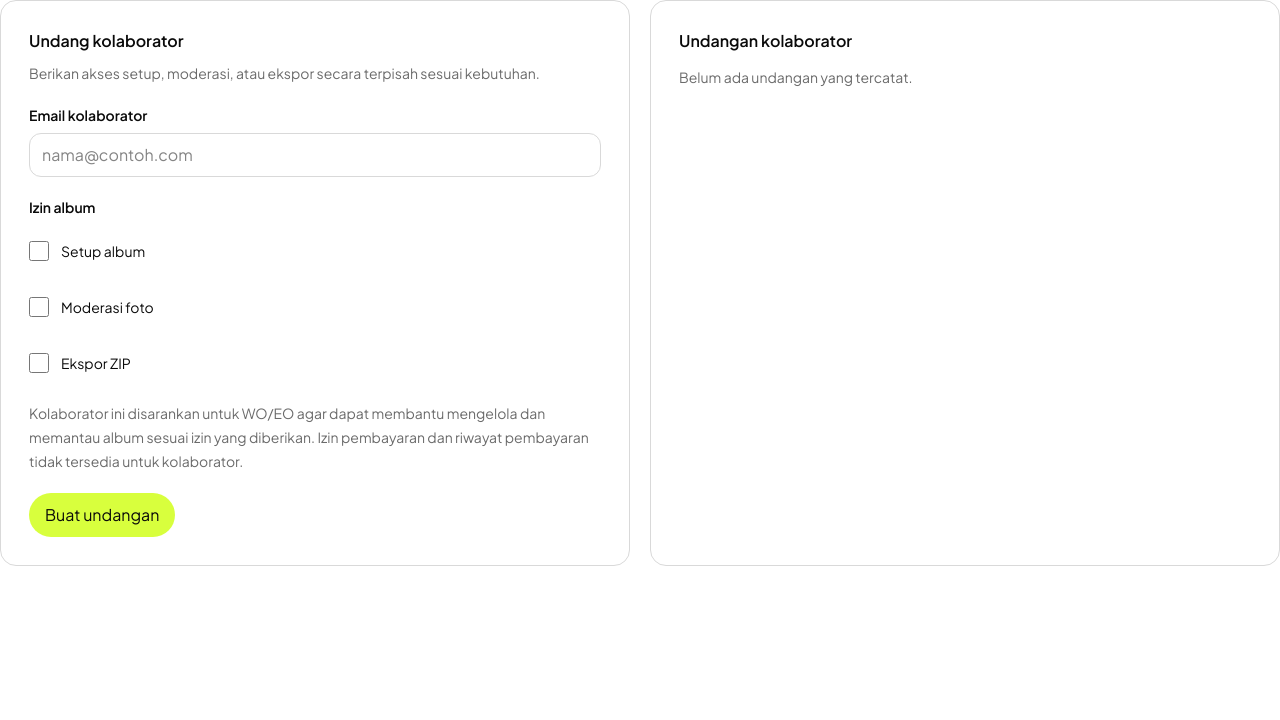
Test: FE-3 Host album surfaces › submits collaborator permissions as independent contract flags without billing access
Type "planner@example.com" into the field labelled "Email kolaborator" at (315, 155), box [29,133,601,177]
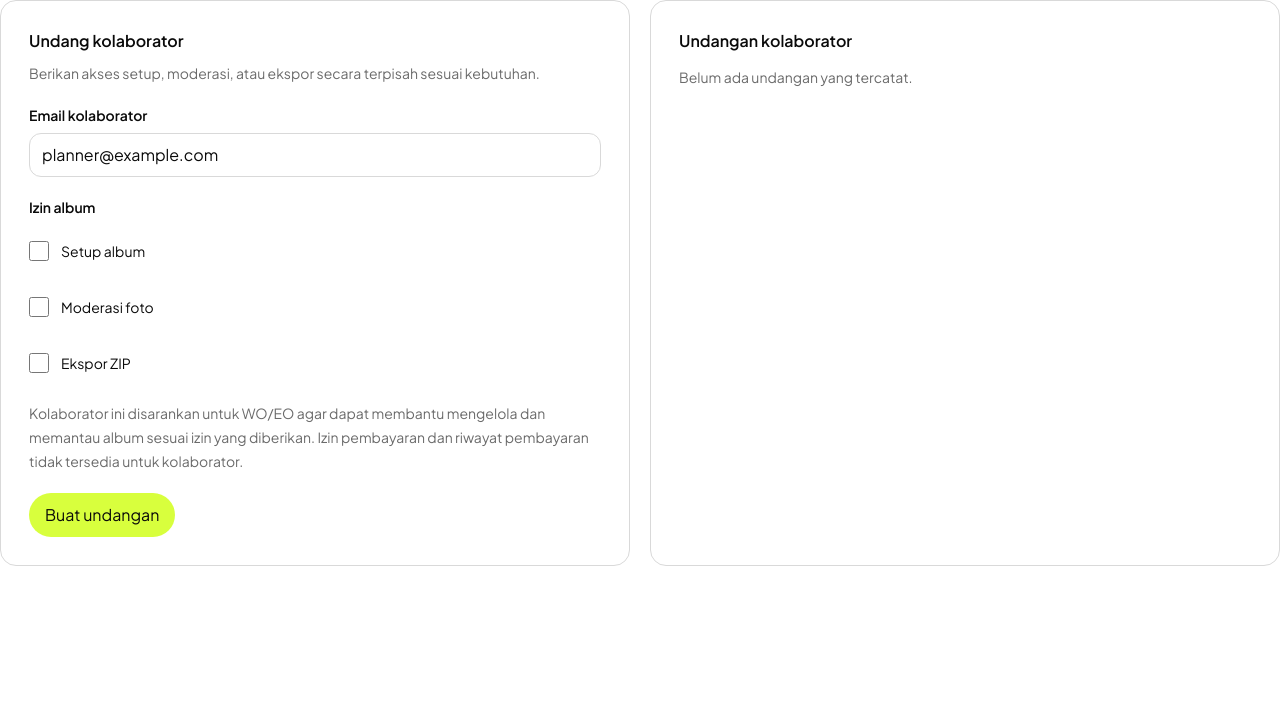
Click the checkbox labelled "Setup album" at (39, 251), box [29,241,49,261]
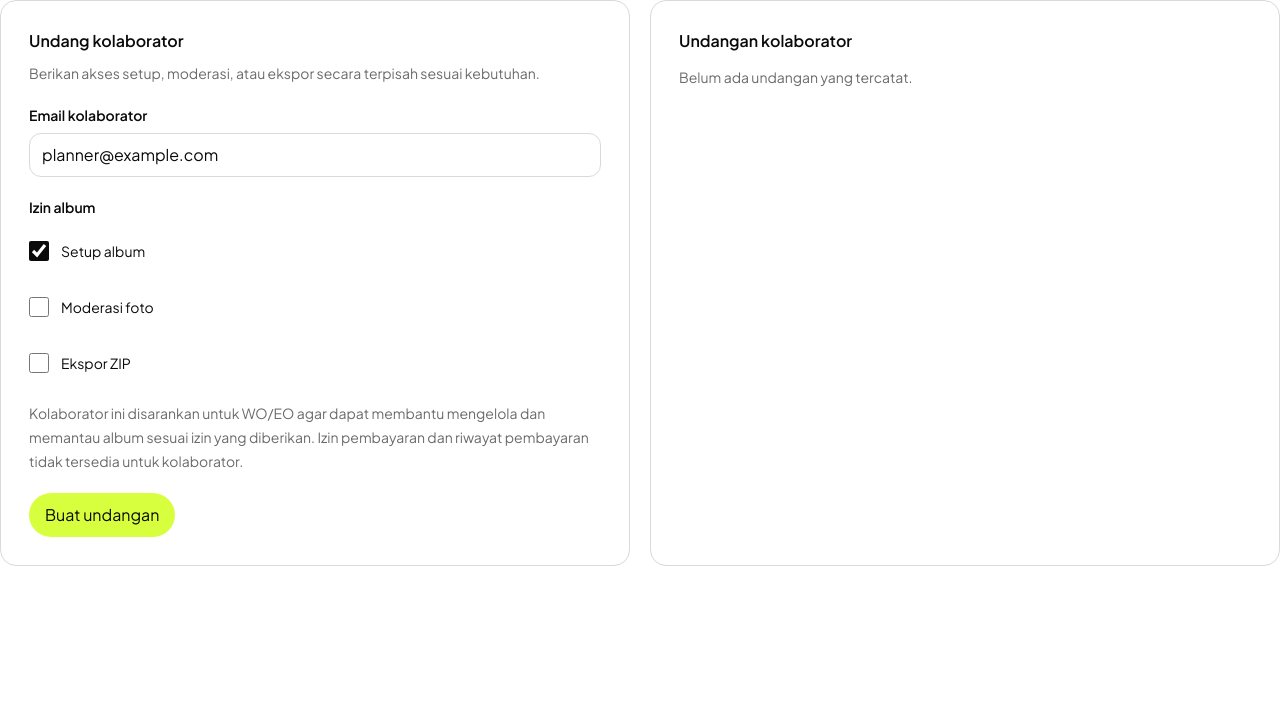
Click the checkbox labelled "Ekspor ZIP" at (39, 363), box [29,353,49,373]
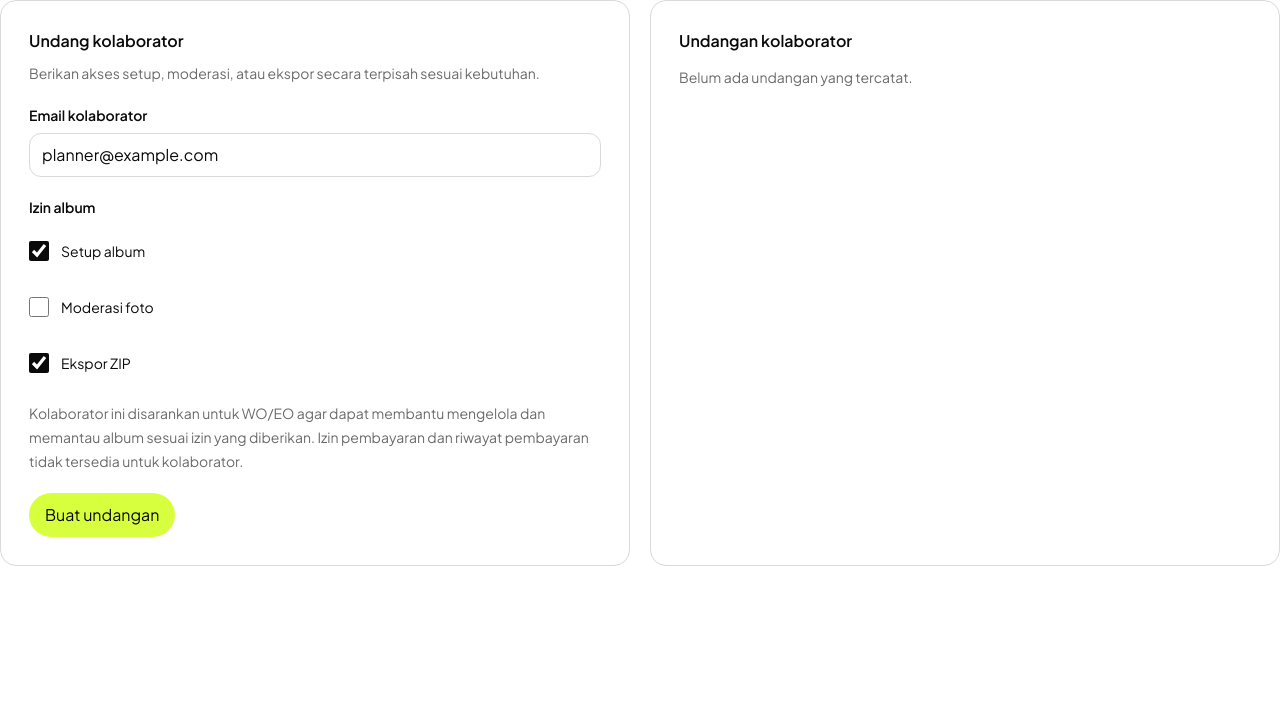
Click the button "Buat undangan" at (102, 515), box [29,493,175,537]
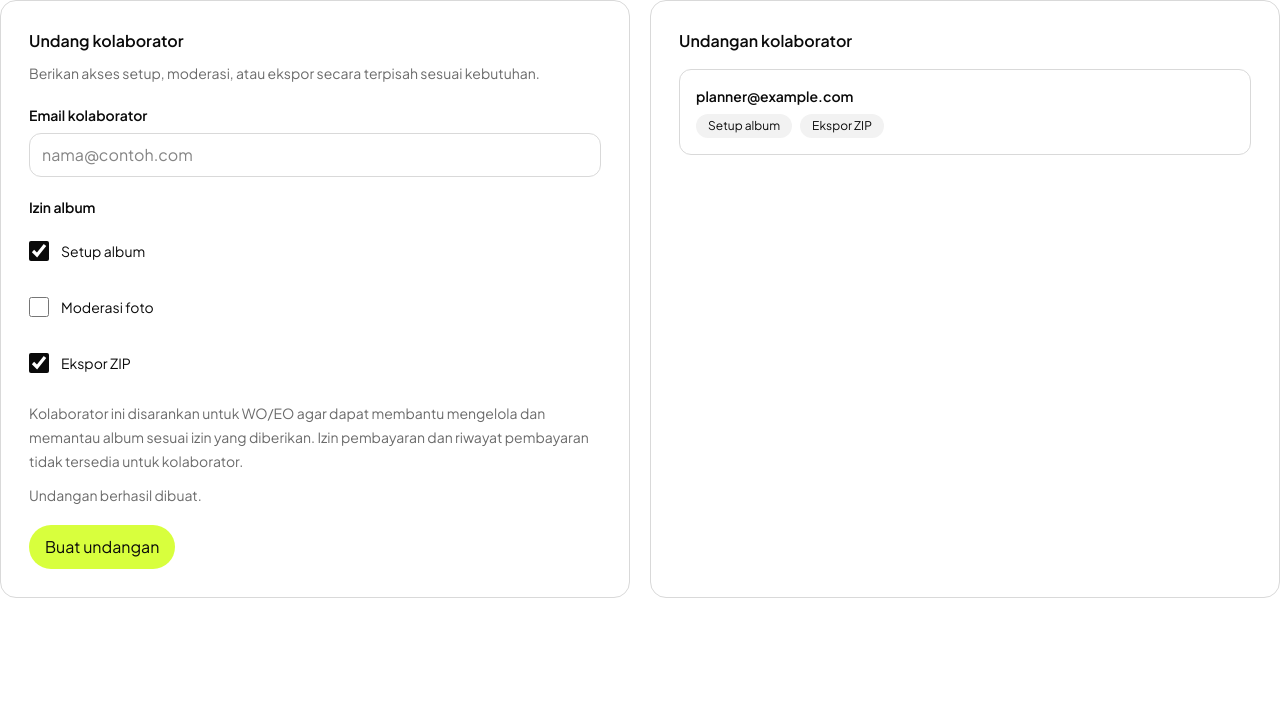
Result: the text "planner@example.com" is shown at [696,87,854,105]
